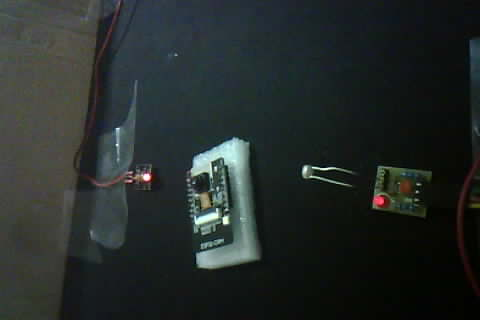esp32: (183, 147, 251, 262)
